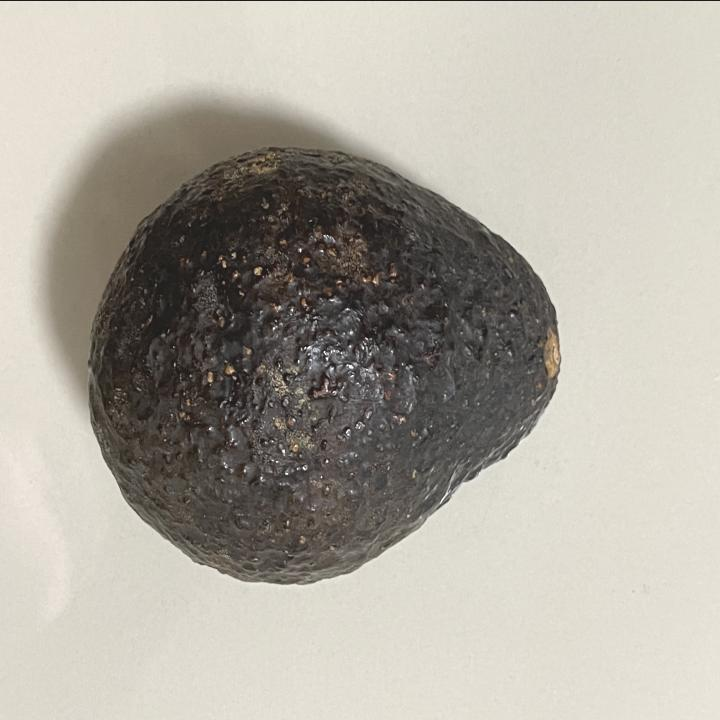Level3: (81, 133, 574, 599)
